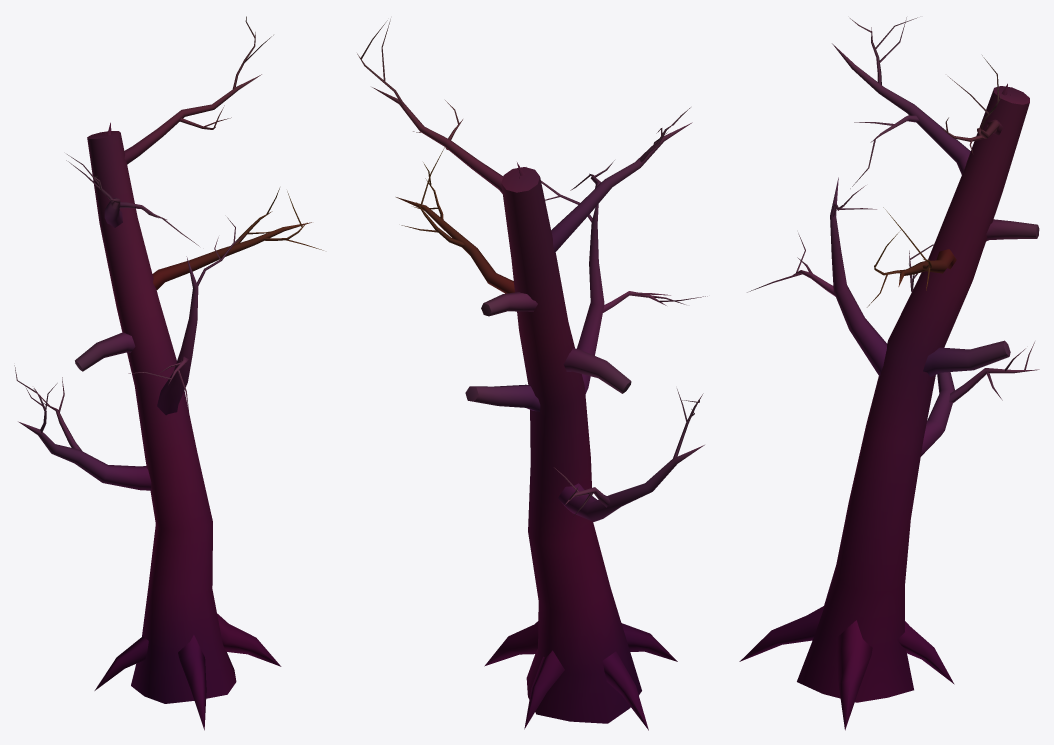
The model's file is dead_b.glb.
The picture shows the model from 3 angles, left to right: view 1: azimuth 30°, elevation 25°; view 2: azimuth 150°, elevation 25°; view 3: azimuth 270°, elevation 25°; orthographic projection. The views are drawn at different scales.
Visible parts, largest first — view 1: dead_b_LOD0; view 2: dead_b_LOD0; view 3: dead_b_LOD0.
Boxes of the visible parts, x1,y1,x2,y2 form: dead_b_LOD0: (14,16,323,730); dead_b_LOD0: (357,19,707,730); dead_b_LOD0: (739,17,1039,730).
Size of what is drawn, in the model's own units: 3.82 by 7.79 by 3.06.
